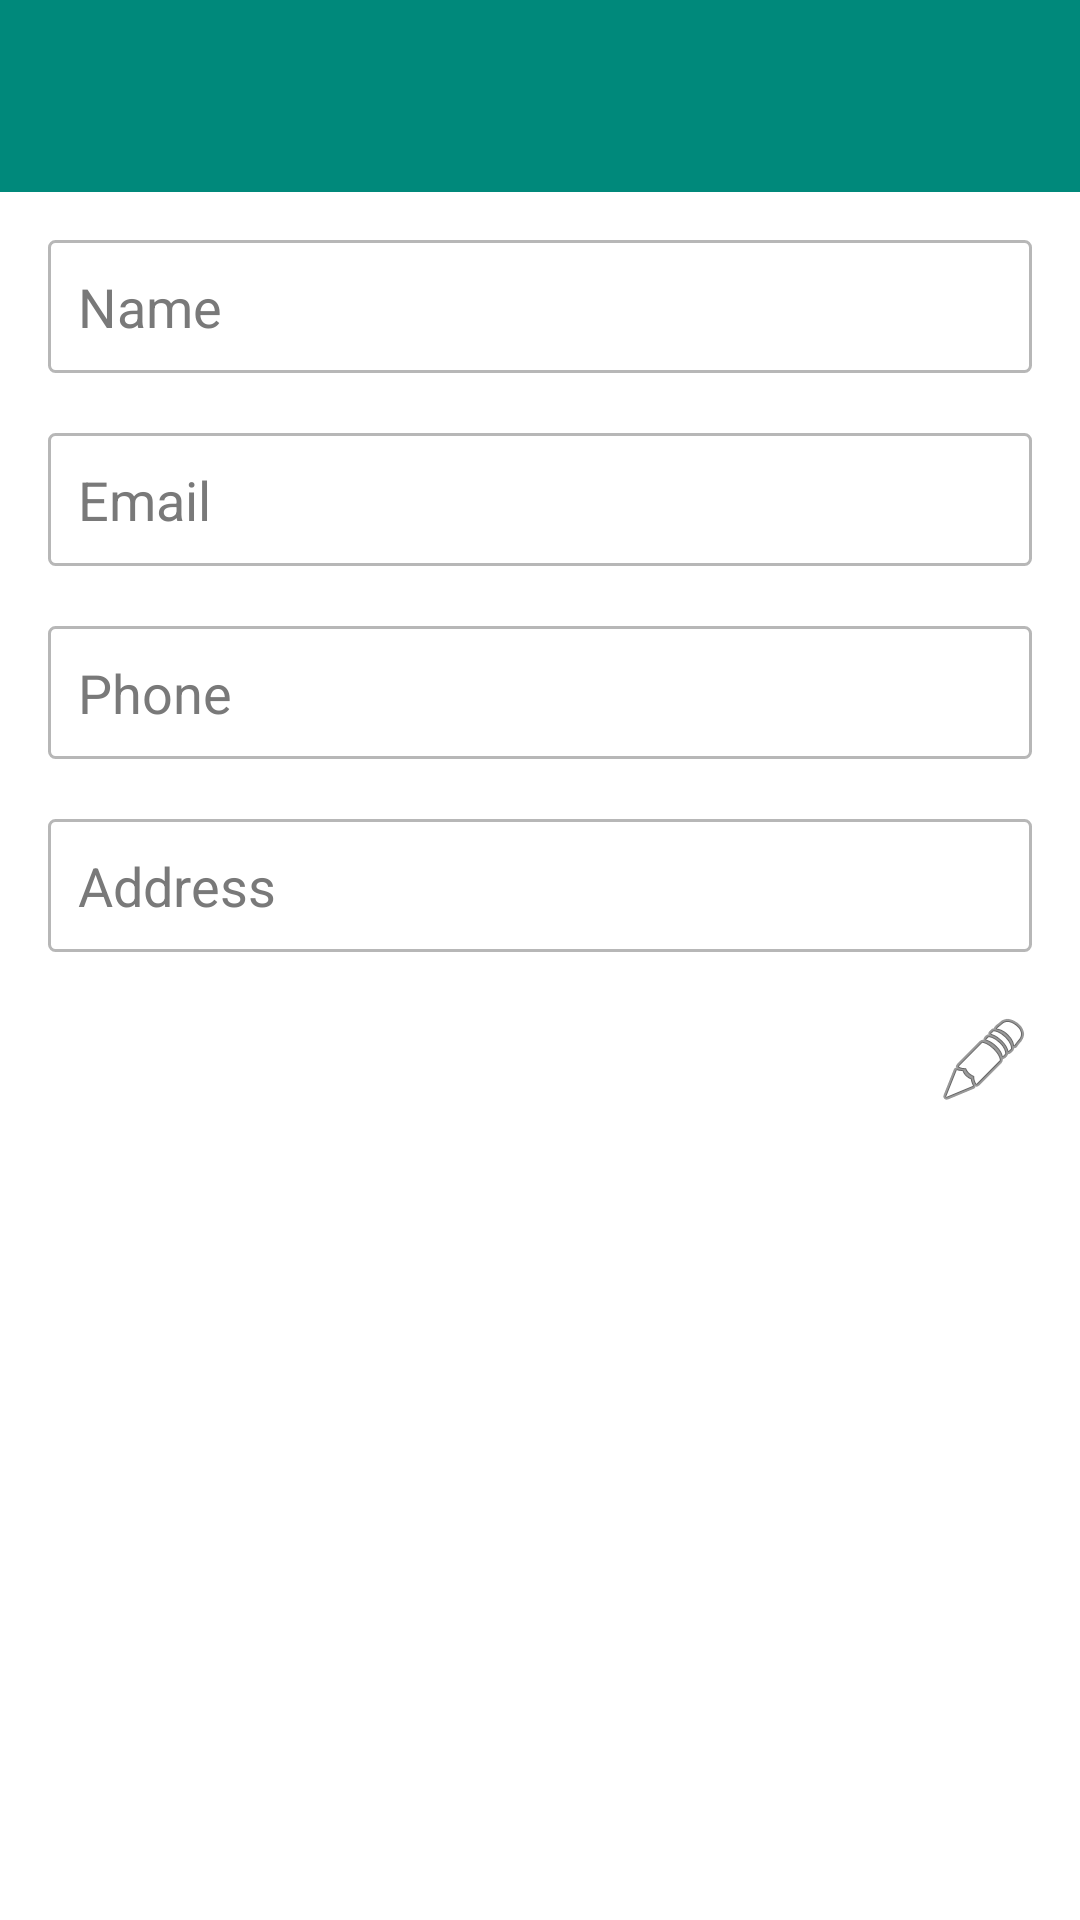

Icon bounding boxes for this 1080*1920 phone screenshot, format (x1, y1, x2, y2):
Edit: (943, 1019, 1024, 1100)
